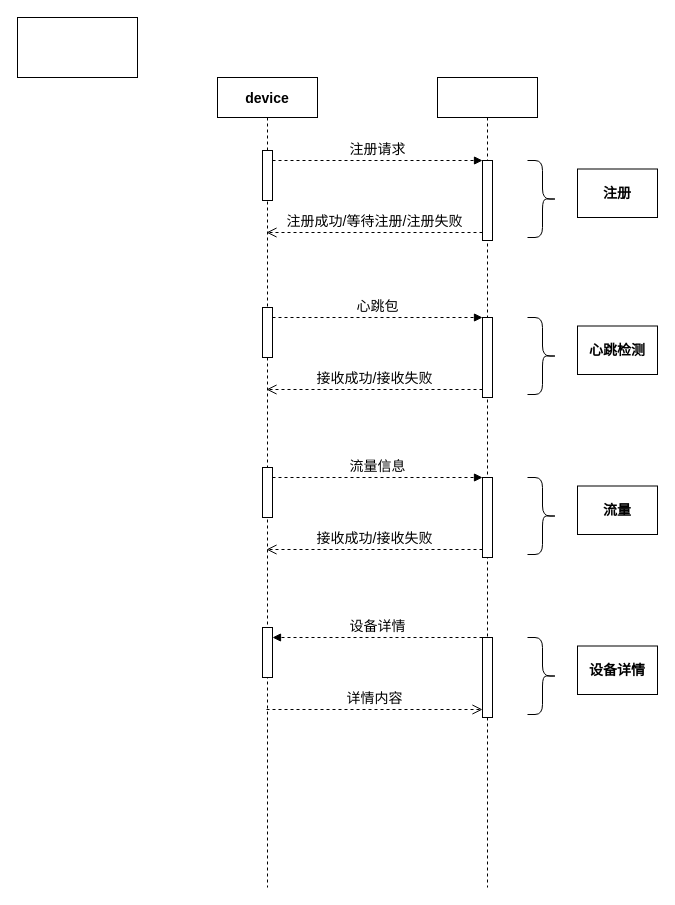
The diagram is 675 pixels wide and 905 high, and some of its shapes have lost their labels. Here are the shapes that lost their labels. From the top down, the centre of each, then its label:
At [77,47]: "设备与平台 交互信息".
At [487,482]: "server".
